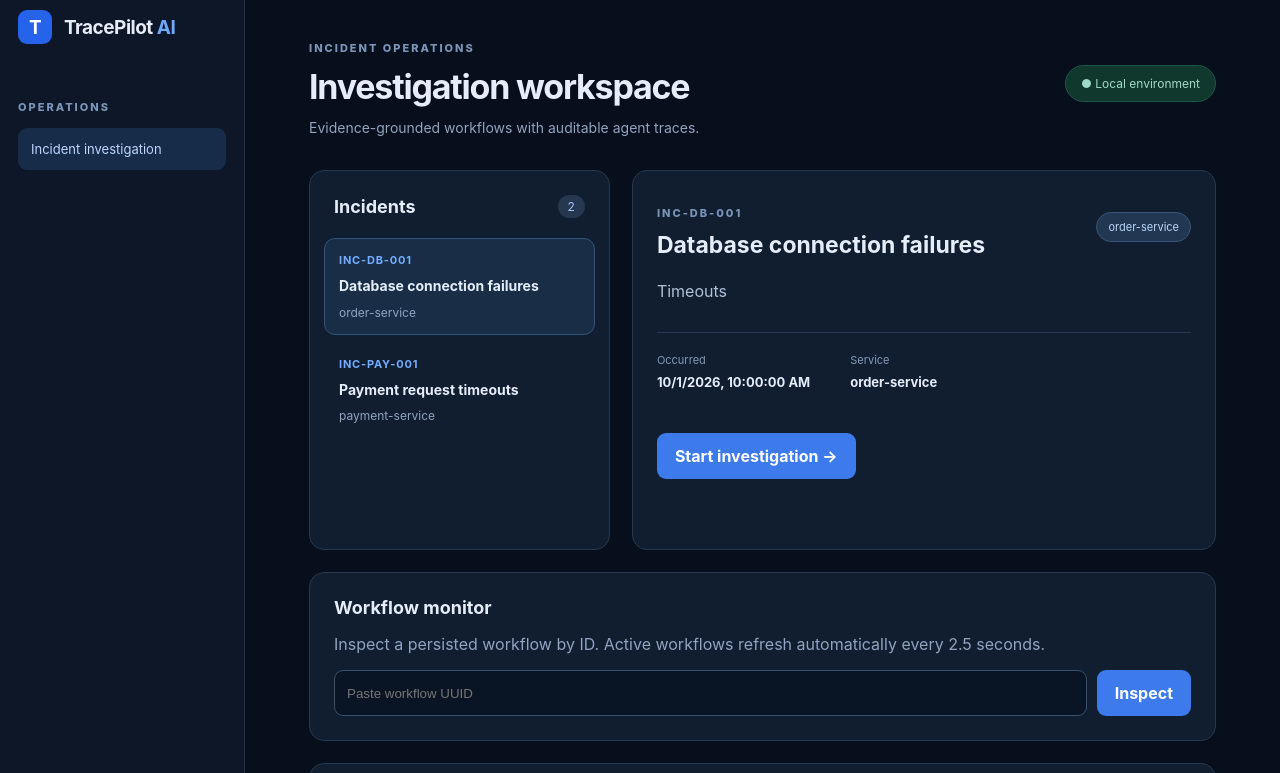
Test: Investigation workspace › blocks another POST on polling error and reconnects to the existing run
Expected: the heading "Database connection failures" is shown, [657, 231, 985, 260]
Step 1. Click the button "Start investigation →" → (756, 456), box [657, 433, 856, 479]
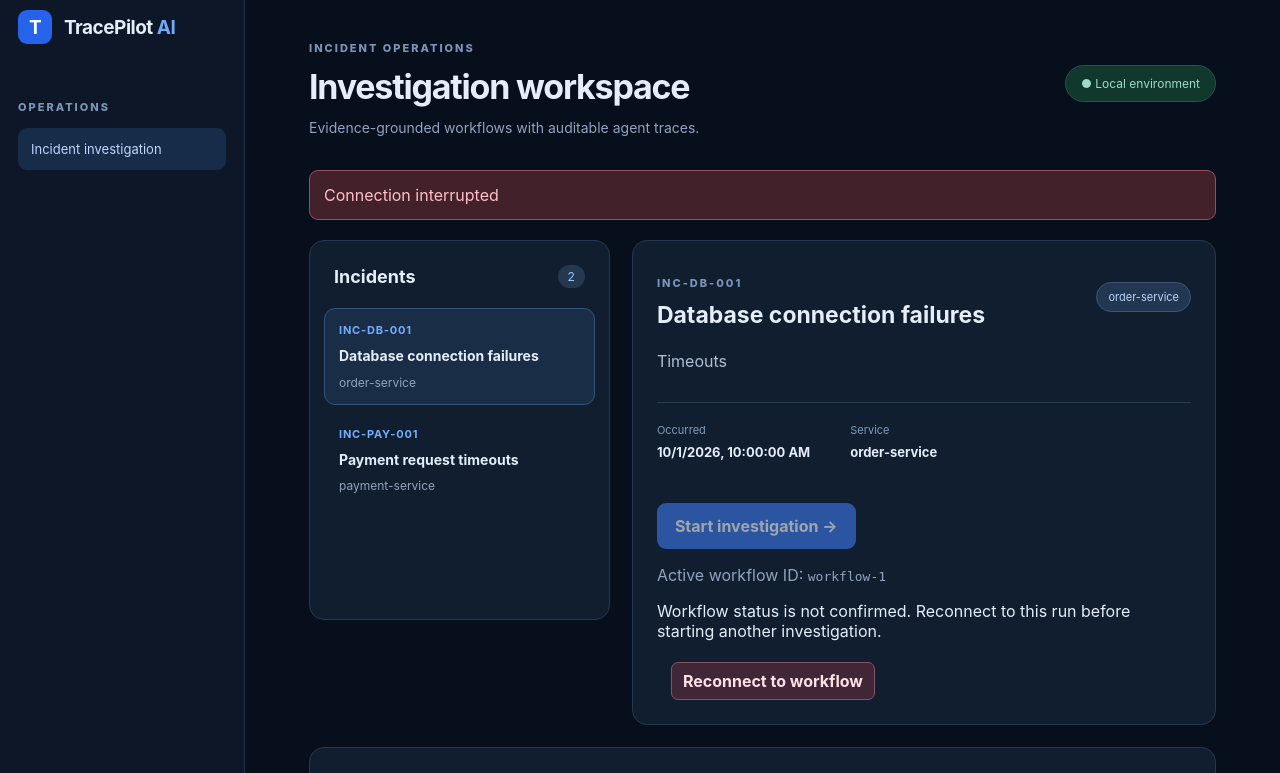
Now the text "Connection interrupted" is shown, box [324, 185, 499, 205]
Now the button "Start investigation →" is disabled, box [657, 503, 856, 549]
Step 2. Click the button "Reconnect to workflow" → (773, 681), box [671, 662, 875, 700]
(page scrolled)
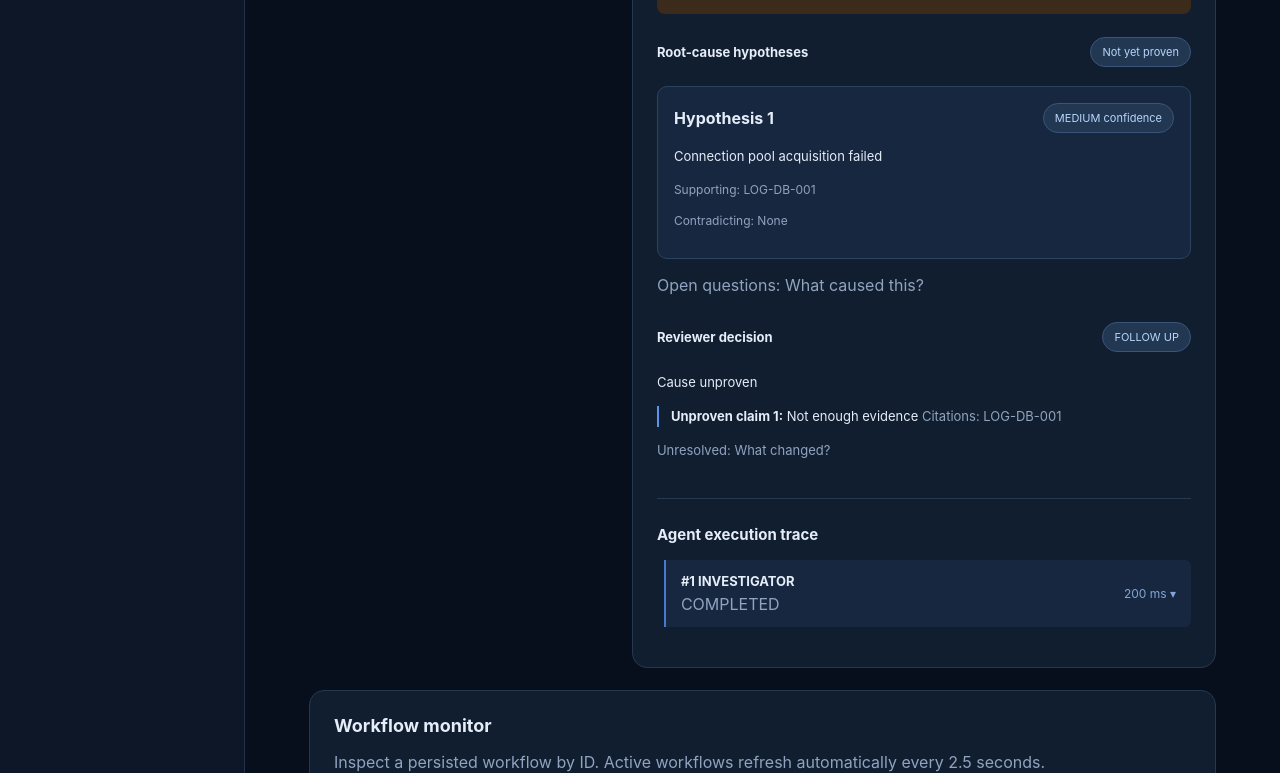
Now the text "Cause unproven" is shown, box [657, 374, 757, 390]
